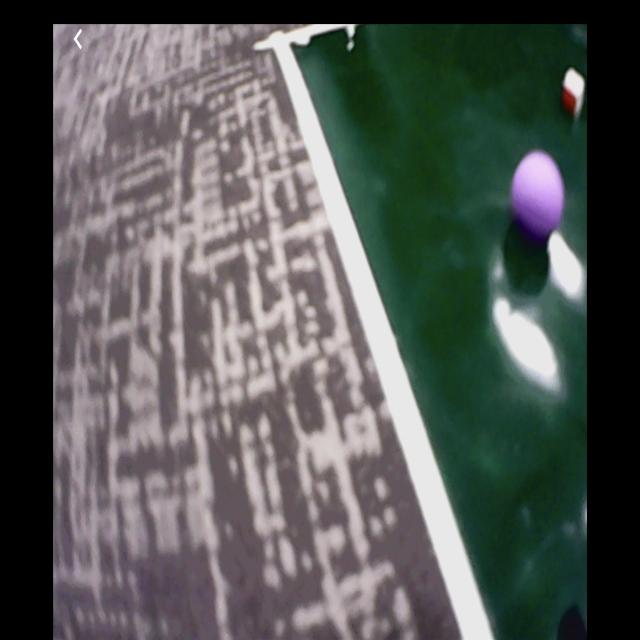ball: (513, 152, 564, 234)
